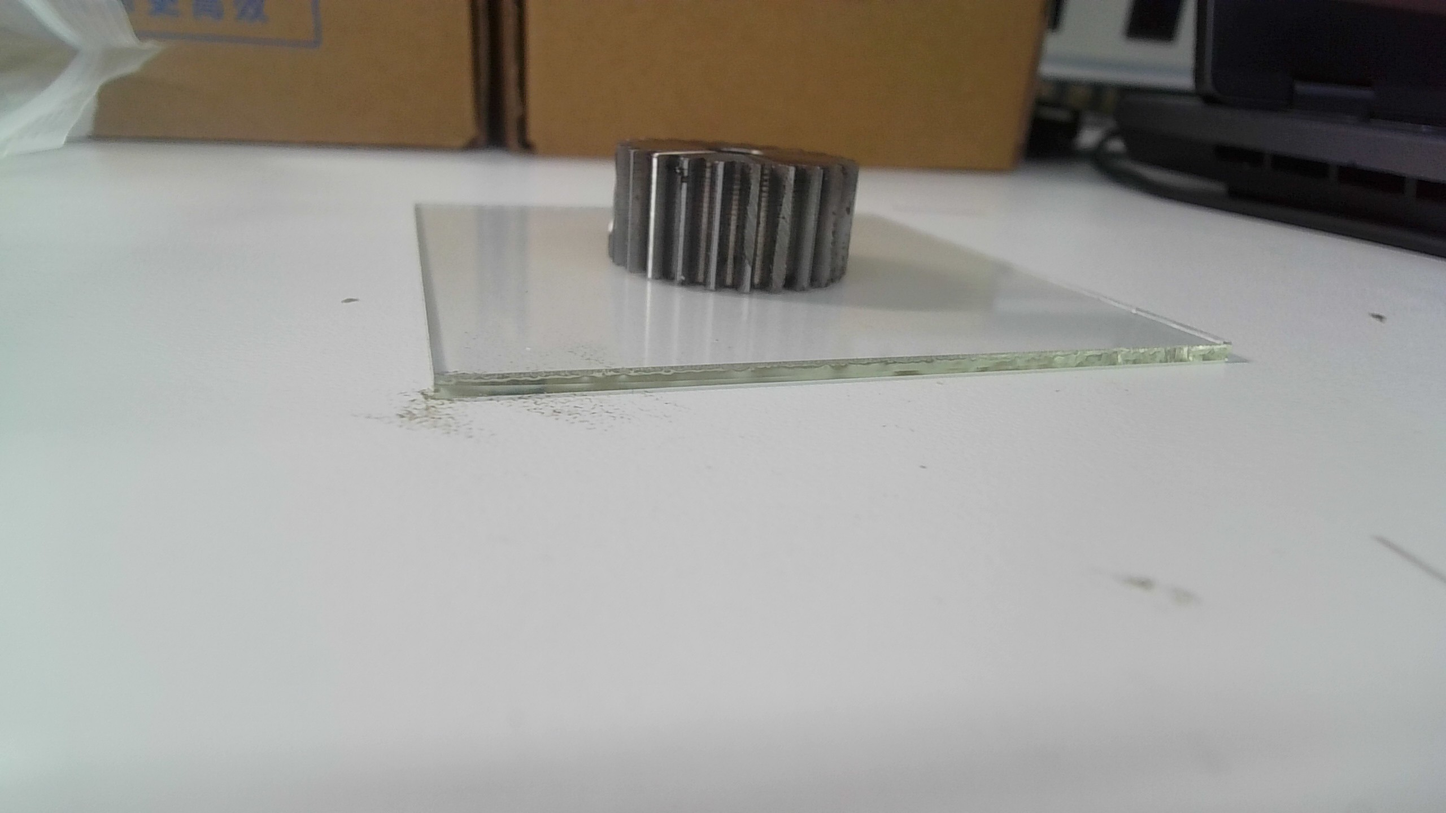gear: (603, 136, 861, 299)
